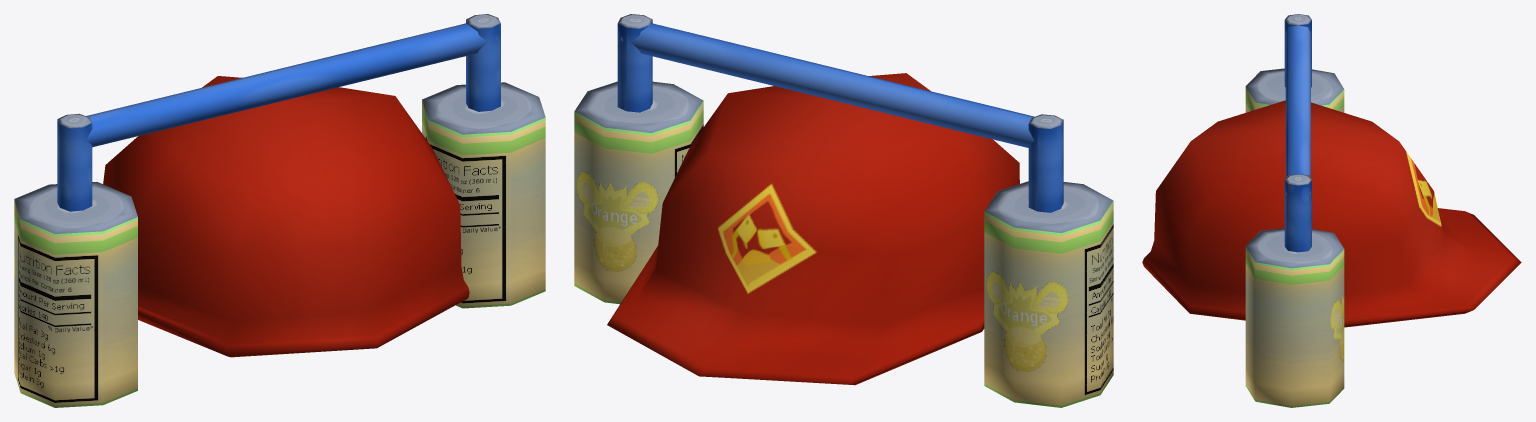
File: SM_Hat6.fbx
3 views of the same model, side by side, from view 1: azimuth 30°, elevation 25°; view 2: azimuth 150°, elevation 25°; view 3: azimuth 270°, elevation 25° (orthographic). The views are drawn at different scales.
Visible parts, largest first — view 1: pCube7; view 2: pCube7; view 3: pCube7.
Part boxes in pixels (x1,y1,x2,y2): pCube7: (14, 14, 545, 407); pCube7: (574, 14, 1113, 407); pCube7: (1142, 14, 1521, 407).
Size of the model in its own units: 3.2 by 1.56 by 2.55.
1 material, 1 textured.
